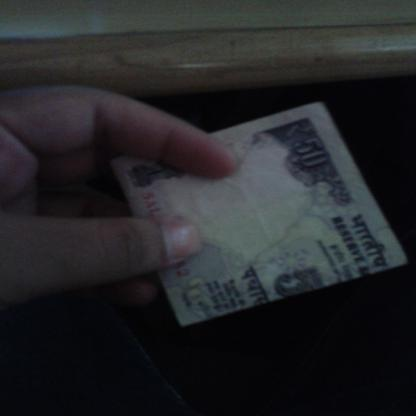Old50Front: (109, 99, 416, 328)
